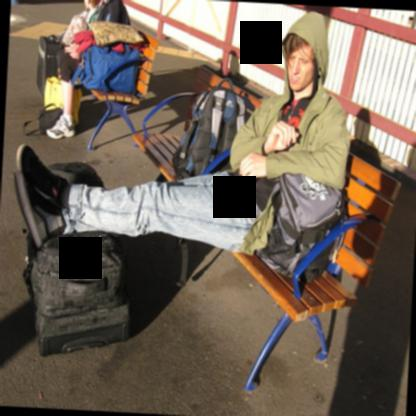backpack: (252, 173, 348, 287), (171, 79, 246, 178)
handbag: (71, 43, 140, 93), (22, 103, 63, 134)
suitcase: (21, 265, 129, 356), (28, 230, 125, 316), (79, 44, 139, 93), (36, 34, 65, 99)
